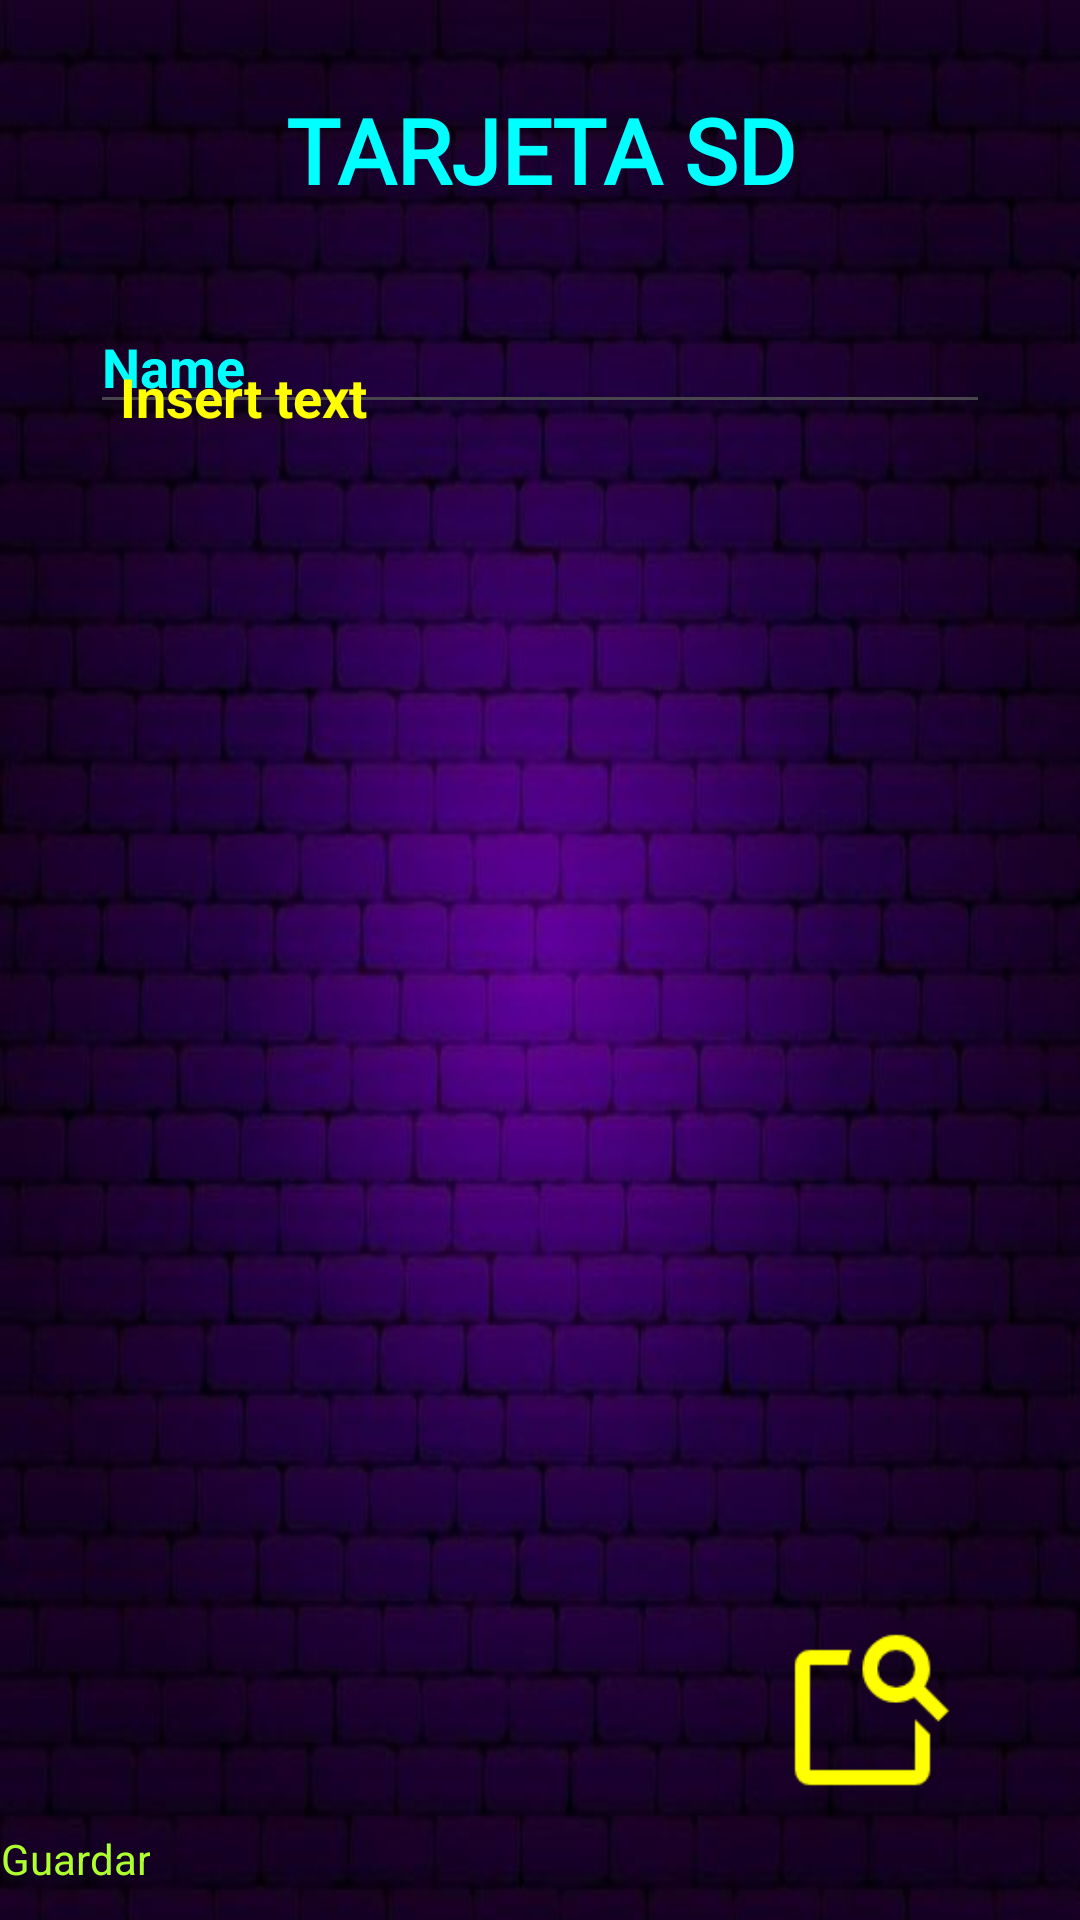

Named icons in this screenshot (1080px×1920px) and their centers, [x,y]:
find file: [871,1710]
